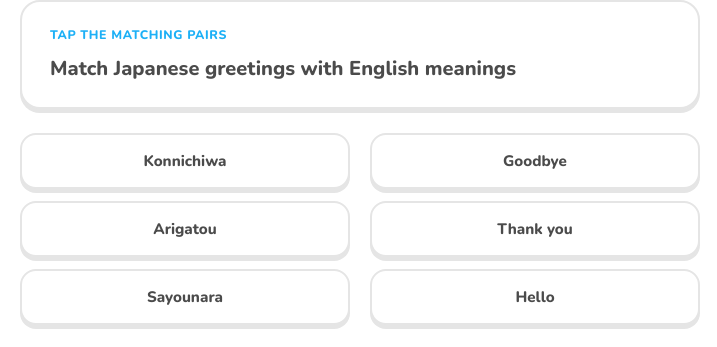
Test case: MatchPairsExercise Component › selects term on click and pairs it with matching definition
This screenshot has width=717, height=347.
Note: Click Konnichiwa then Hello
Click the button "Konnichiwa": x=185, y=161 [20,133,350,189]
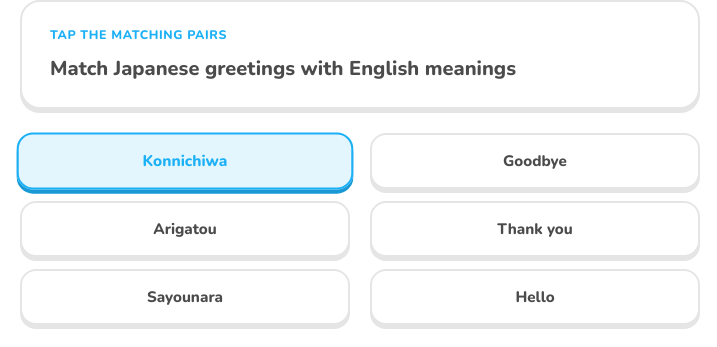
Click the button "Hello": x=535, y=297 [370,269,700,325]
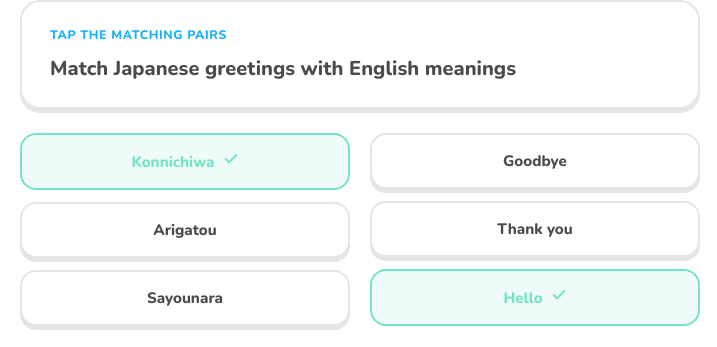
Result: the button "Konnichiwa" is disabled at [20,133,350,190]
Result: the button "Hello" is disabled at [370,269,700,326]
